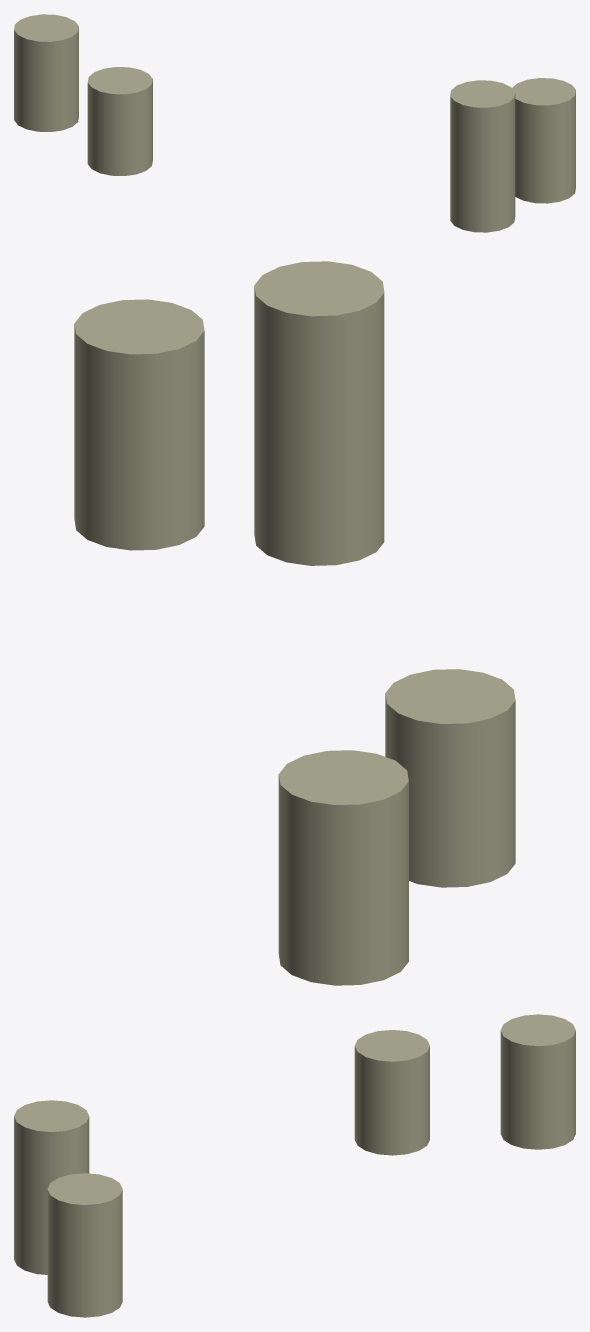
Rendered from candles_INT.fbx.
3 renders of one model, top to bottom at view 1: azimuth 30°, elevation 25°; view 2: azimuth 150°, elevation 25°; view 3: azimuth 270°, elevation 25°, orthographic. The views are drawn at different scales.
Visible parts, largest first — view 1: candle5; view 2: candle5; view 3: candle5.
Part boxes in pixels (left/top/right/bottom): candle5: left=14, top=14, right=575, bottom=232; candle5: left=74, top=261, right=515, bottom=985; candle5: left=14, top=1014, right=575, bottom=1317.
Bounding box in the file's own units: 4.56 × 1.53 × 5.43.
